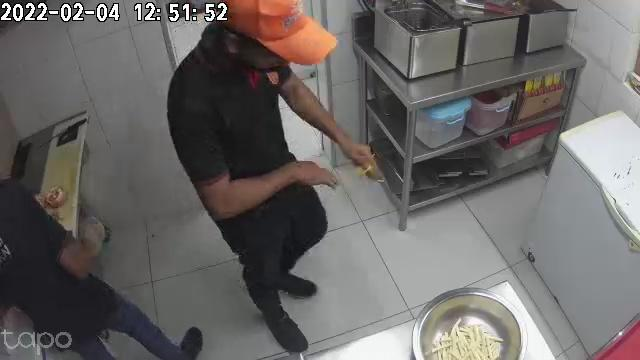no_gloves: (265, 163, 338, 190)
